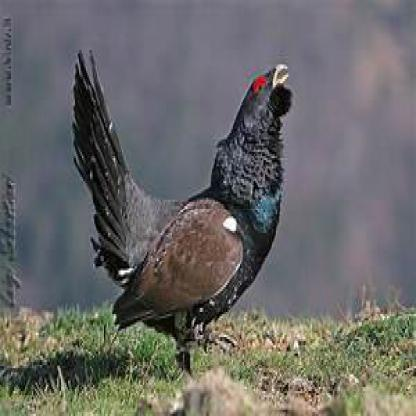chicken: (72, 46, 297, 358)
